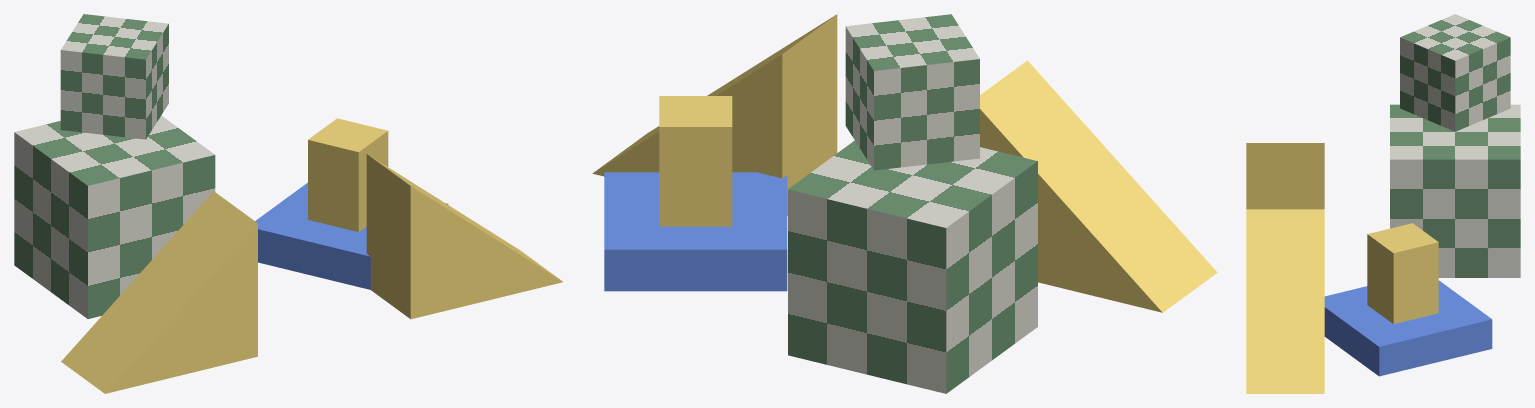
The model's file is hierarchy.gltf.
The picture shows the model from 3 angles, left to right: view 1: azimuth 30°, elevation 25°; view 2: azimuth 150°, elevation 25°; view 3: azimuth 270°, elevation 25°; orthographic projection. The views are drawn at different scales.
Parts seen in each view (by area): view 1: root, wedge mirrored, wedge, post (matrix), block on top; view 2: root, post (matrix), wedge mirrored, block on top, wedge; view 3: root, post (matrix), wedge, block on top, wedge mirrored.
Boxes of the visible parts, x1=… form: root: x1=14, y1=115, x2=215, y2=318; wedge mirrored: x1=61, y1=191, x2=257, y2=393; wedge: x1=366, y1=154, x2=562, y2=319; post (matrix): x1=255, y1=118, x2=448, y2=289; block on top: x1=60, y1=14, x2=168, y2=139; root: x1=788, y1=140, x2=1037, y2=393; post (matrix): x1=604, y1=96, x2=787, y2=291; wedge mirrored: x1=980, y1=60, x2=1217, y2=312; block on top: x1=845, y1=14, x2=979, y2=170; wedge: x1=592, y1=14, x2=837, y2=215; root: x1=1390, y1=104, x2=1520, y2=277; post (matrix): x1=1324, y1=223, x2=1492, y2=376; wedge: x1=1246, y1=209, x2=1324, y2=393; block on top: x1=1400, y1=14, x2=1510, y2=131; wedge mirrored: x1=1246, y1=143, x2=1324, y2=209.
Size of what is drawn, in the model's own units: 3.6 by 1.8 by 2.1.
3 materials, 1 textured.
